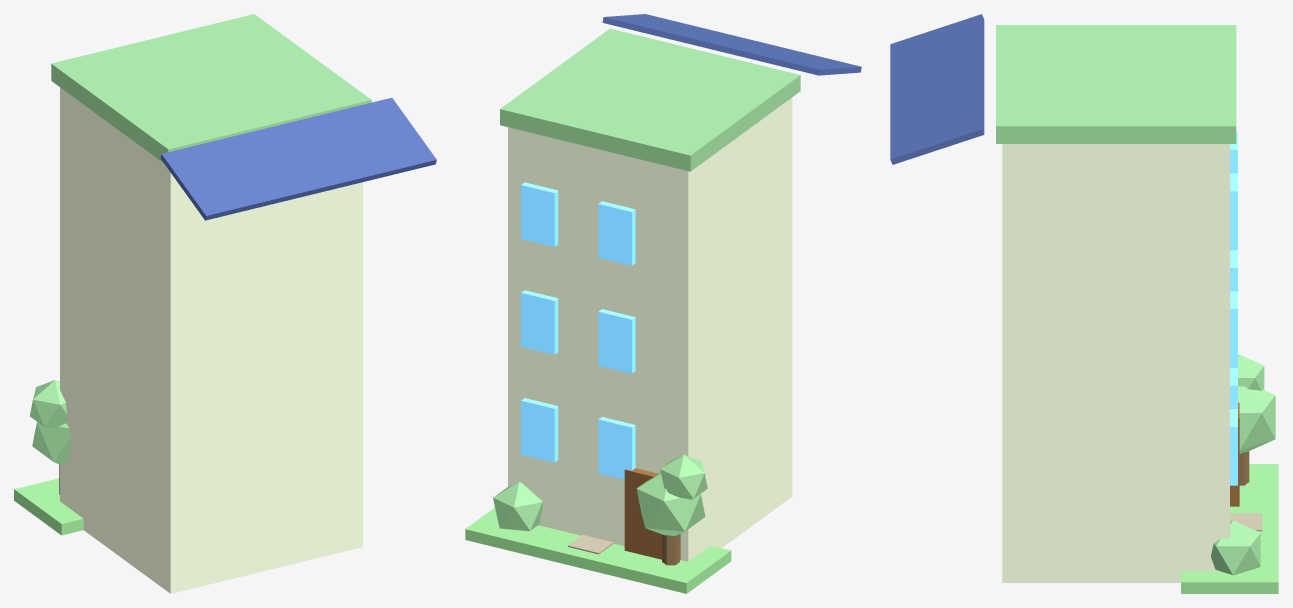
The model's file is res_eco_3.glb.
The picture shows the model from 3 angles, left to right: view 1: azimuth 30°, elevation 25°; view 2: azimuth 150°, elevation 25°; view 3: azimuth 270°, elevation 25°; orthographic projection. The views are drawn at different scales.
Parts seen in each view (by area): view 1: res_eco_3; view 2: res_eco_3; view 3: res_eco_3.
Boxes of the visible parts, x1=… form: res_eco_3: x1=14, y1=14, x2=436, y2=593; res_eco_3: x1=465, y1=14, x2=861, y2=593; res_eco_3: x1=890, y1=14, x2=1278, y2=593.
Size of the model in its own units: 0.8605 by 1.58 by 1.2.
